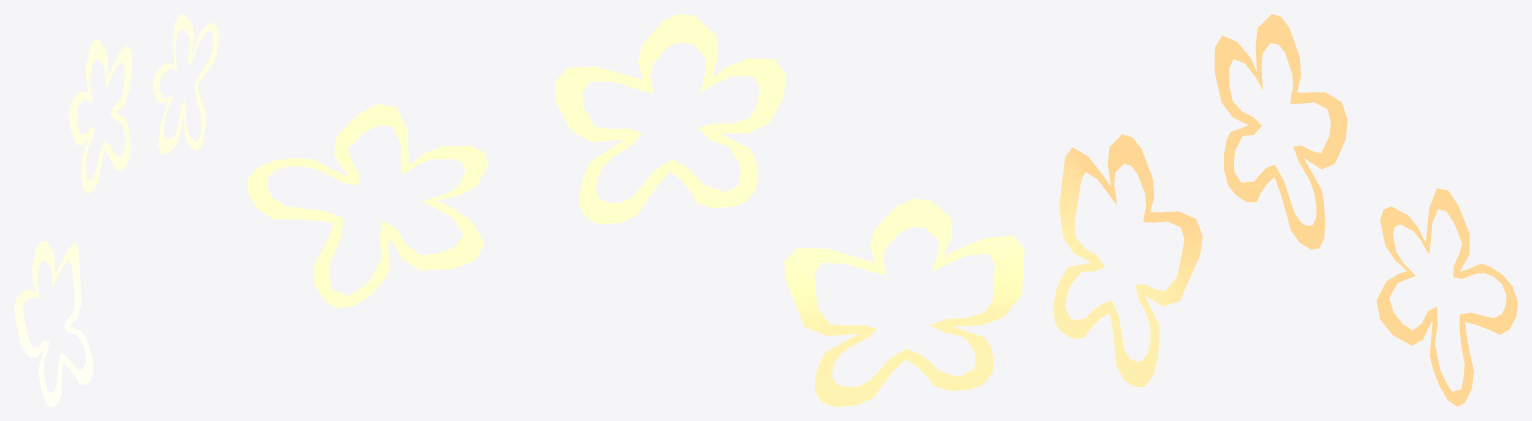
File: object_72_lev3.glb
3 renders of one model, left to right at view 1: azimuth 30°, elevation 25°; view 2: azimuth 150°, elevation 25°; view 3: azimuth 270°, elevation 25°, orthographic. The views are drawn at different scales.
Parts seen in each view (by area): view 1: object_72_lev3; view 2: object_72_lev3; view 3: object_72_lev3.
Part boxes in pixels (x1=…): object_72_lev3: x1=14, y1=14, x2=218, y2=406; object_72_lev3: x1=247, y1=14, x2=1024, y2=406; object_72_lev3: x1=1053, y1=14, x2=1517, y2=406.
Bounding box in the file's own units: 1.93 × 1.47 × 1.51.
